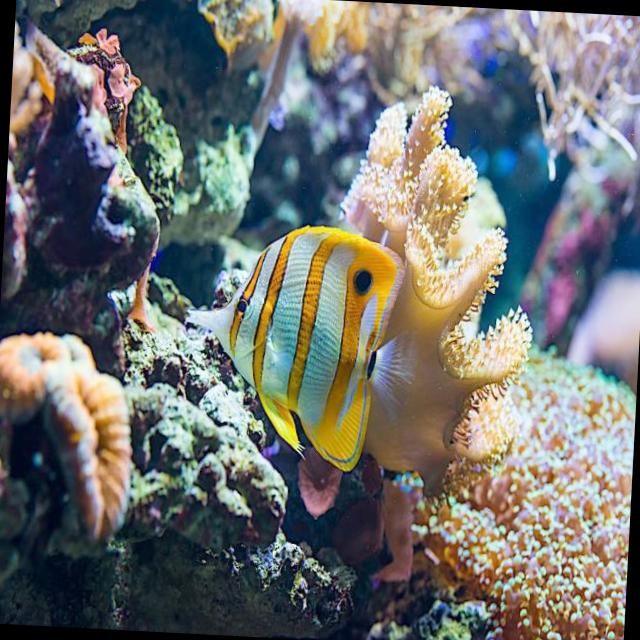ButterflyFish: (168, 216, 425, 486)
